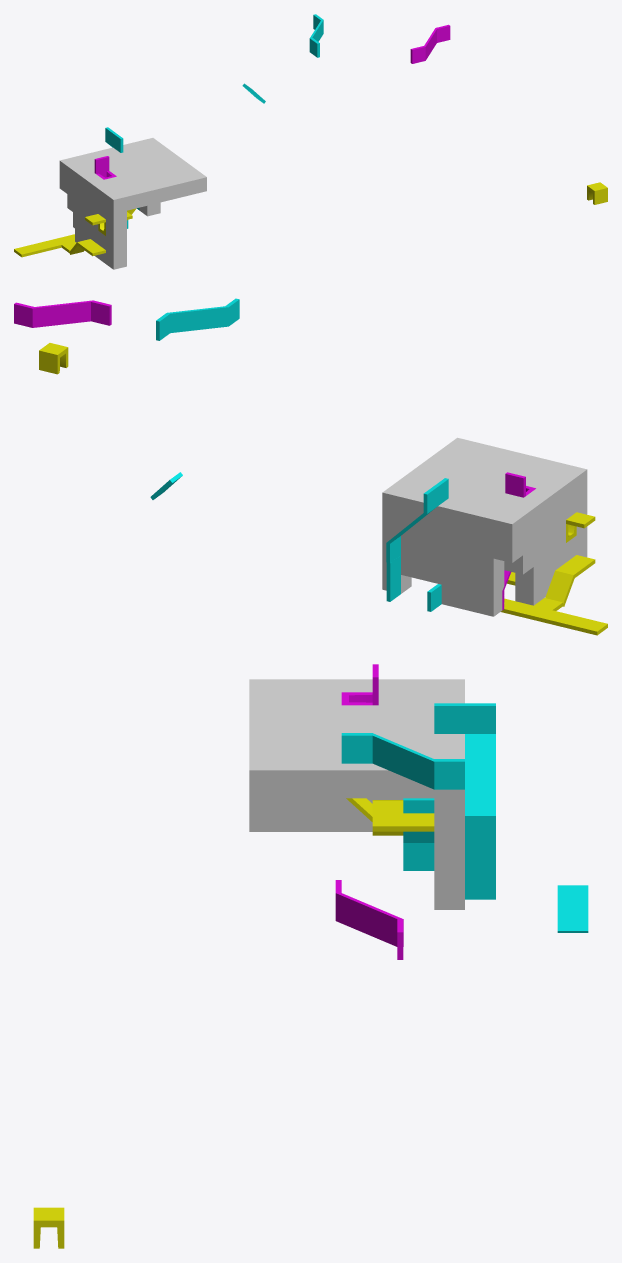
Rendered from escher.fbx.
3 renders of one model, top to bottom at view 1: azimuth 30°, elevation 25°; view 2: azimuth 150°, elevation 25°; view 3: azimuth 270°, elevation 25°, orthographic. The views are drawn at different scales.
Visible parts, largest first — view 1: pCube18, pCube14, pCube23, pCube16, pCube8, B1, A5, pCube21, C2, pCube20, pCube10; view 2: pCube16, pCube17, pCube14, pCube18, pCube23, B1, C2, A5, pCube22, pCube19, pCube8, pCube10 (+5 smaller); view 3: pCube18, pCube23, C18, C2, pCube19, pCube21, pCube14, B1, C6, pCube16, pCube20, C19 (+4 smaller).
Part boxes in pixels (x1,y1,x2,y2): pCube18: (104,160,206,210); pCube14: (67,163,126,227); pCube23: (108,143,183,176); pCube16: (59,141,146,193); pCube8: (75,214,126,255); B1: (410,24,450,63); A5: (14,234,74,257); pCube21: (75,228,126,269); C2: (309,14,323,57); pCube20: (587,182,607,204); pCube10: (67,194,98,230); pCube16: (401,489,522,562); pCube17: (438,545,504,616); pCube14: (505,465,587,554); pCube18: (425,437,568,488); pCube23: (393,461,505,507); B1: (14,300,111,327); C2: (156,298,239,340); A5: (501,598,607,635); pCube22: (401,536,437,583); pCube19: (382,484,411,593); pCube8: (515,528,587,586); pCube10: (504,524,565,574); pCube18: (249,692,341,798); pCube23: (341,705,434,798); C18: (465,703,495,843); C2: (341,733,464,789); pCube19: (434,757,464,909); pCube21: (249,804,372,831); pCube14: (249,679,434,692); B1: (335,880,403,959); C6: (557,885,588,932); pCube16: (434,679,464,757); pCube20: (33,1207,64,1248); C19: (434,703,464,733).
Bounding box in the file's own units: 37 × 11.28 × 18.
